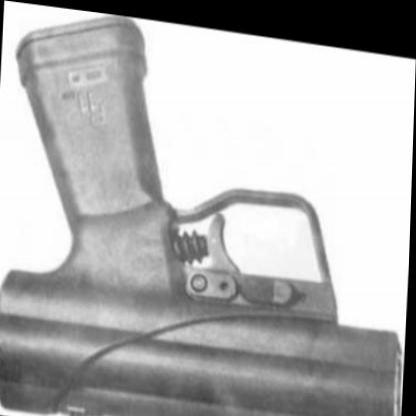pistol: (0, 1, 415, 414)
